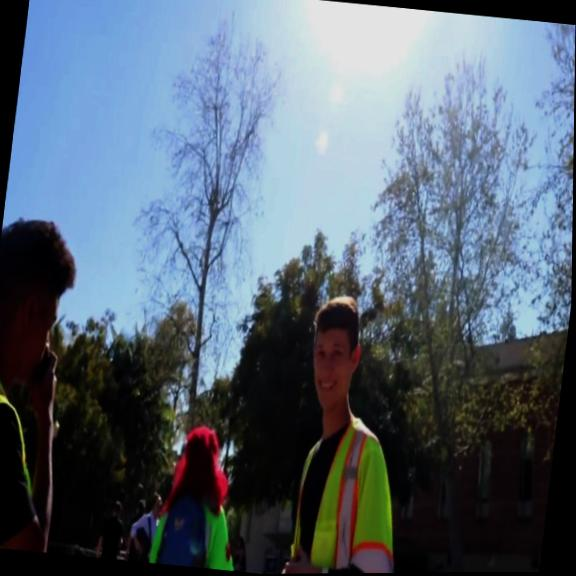safety_vest: (285, 406, 413, 574), (0, 362, 47, 550)
